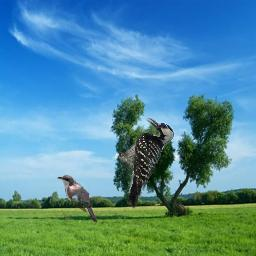Cuckoo: (56, 174, 97, 223)
Woodpecker: (119, 118, 175, 209)
